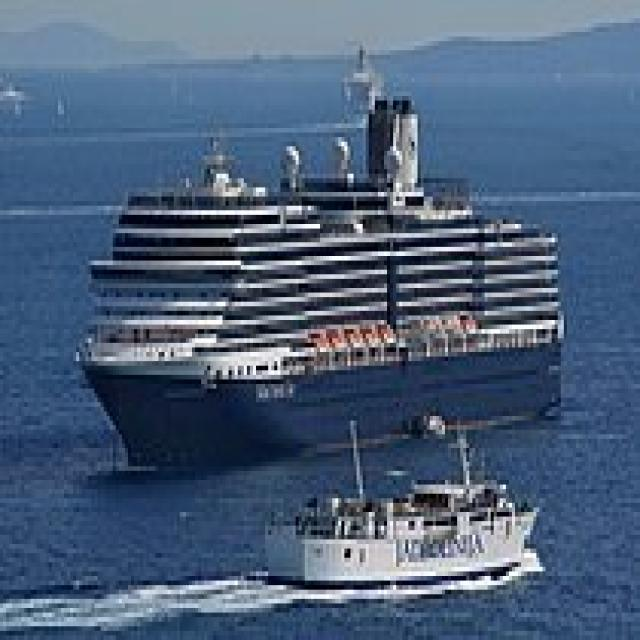Ship: (56, 38, 571, 454)
